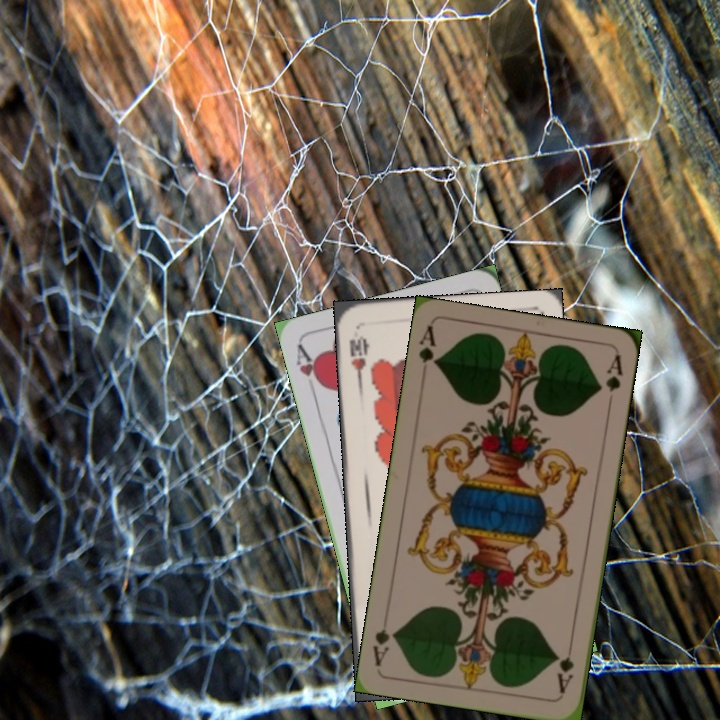GA: (553, 639, 577, 697), (415, 323, 441, 369)
H10: (345, 332, 370, 384)
HA: (292, 341, 327, 399)
